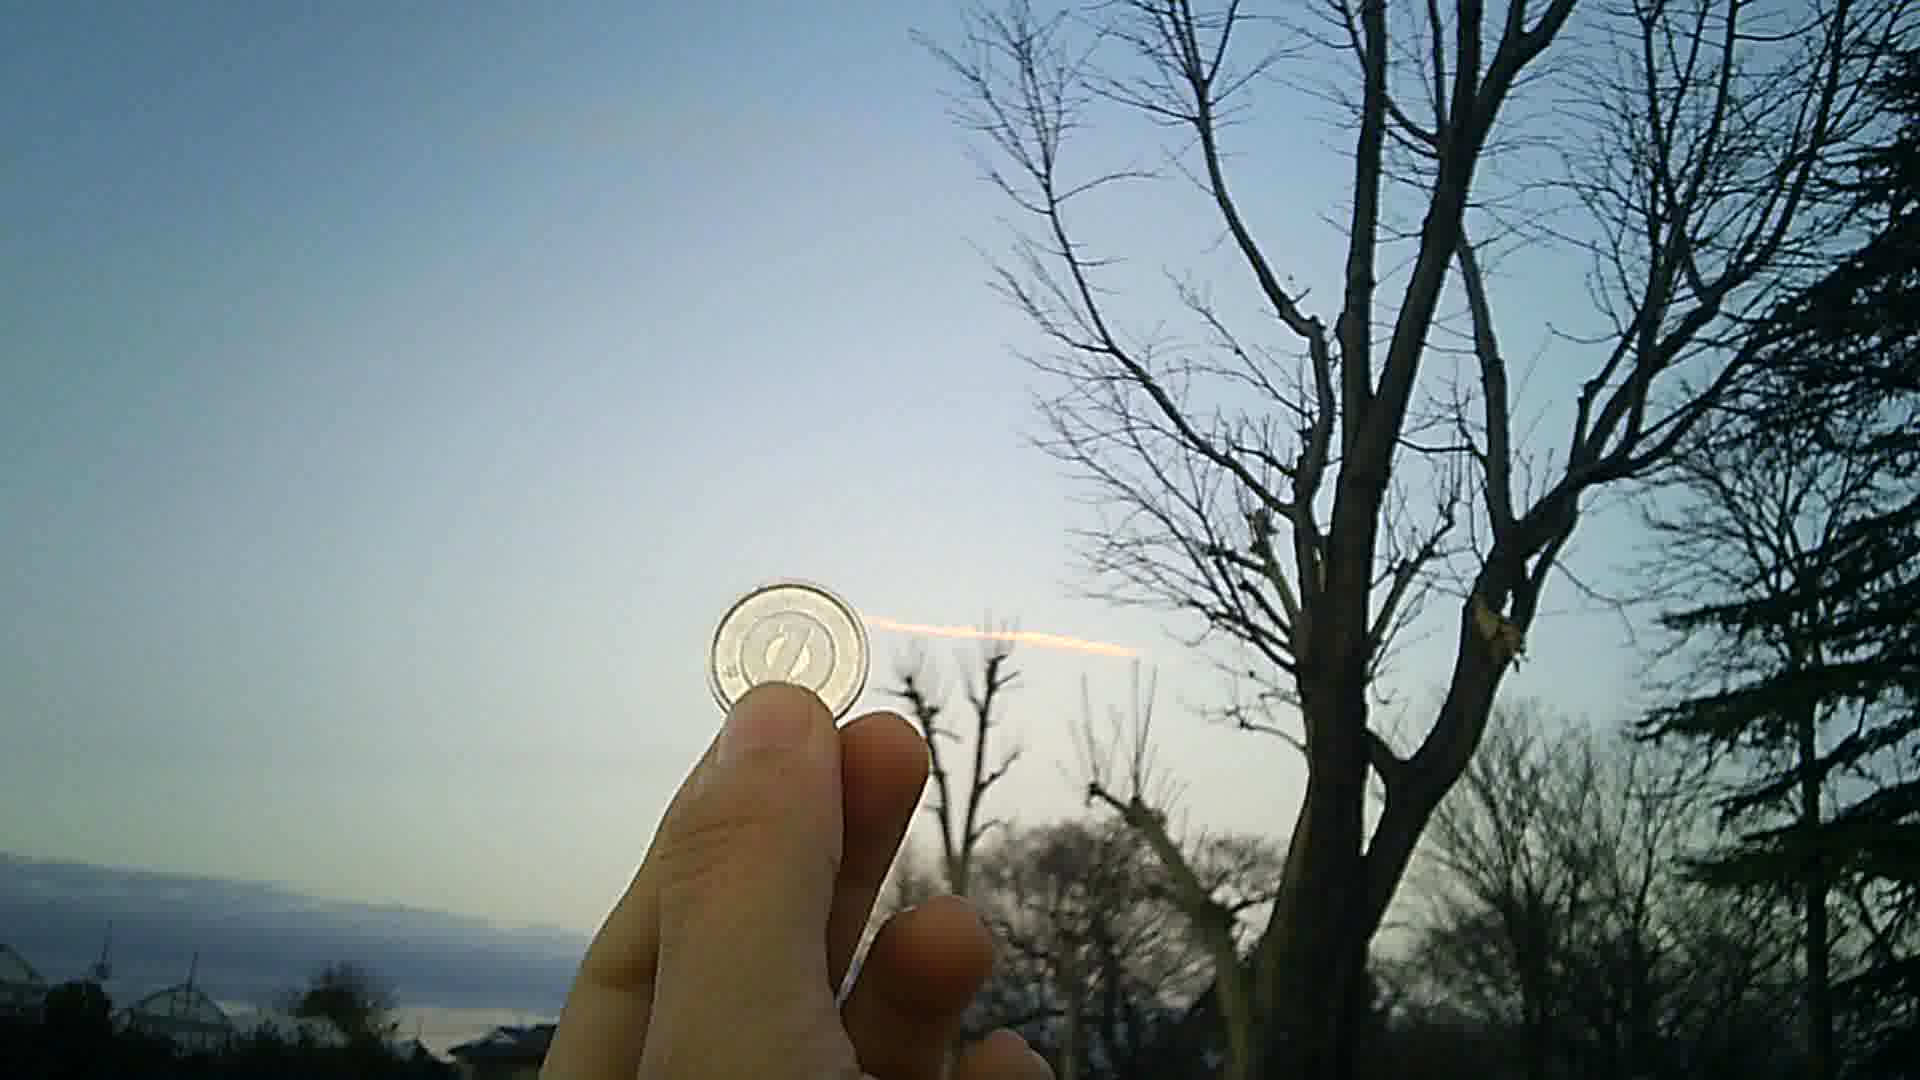1 Yen: (705, 578, 865, 737)
